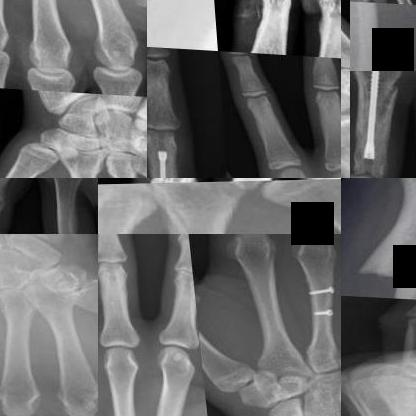fracture: (122, 192, 262, 233), (350, 71, 402, 169), (355, 238, 415, 299), (299, 284, 340, 328), (147, 135, 185, 177), (383, 363, 415, 395), (341, 115, 350, 175), (209, 172, 231, 177)
